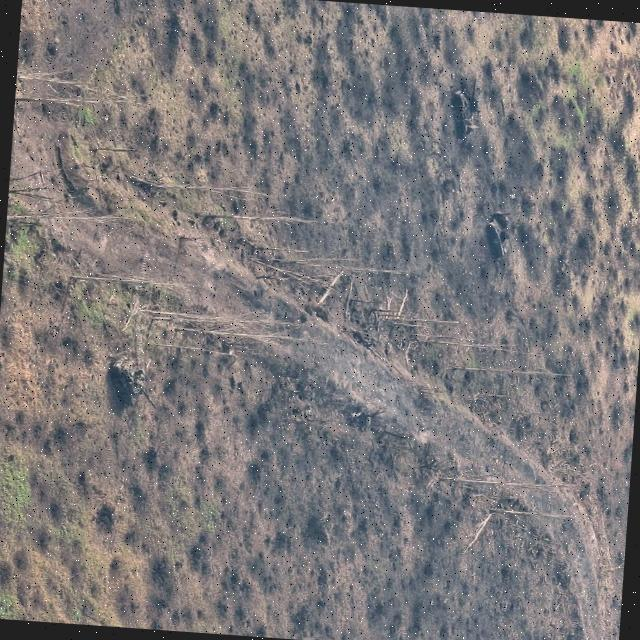Destroyed: (448, 77, 488, 143), (483, 209, 519, 261)
MBT: (108, 354, 164, 410)
